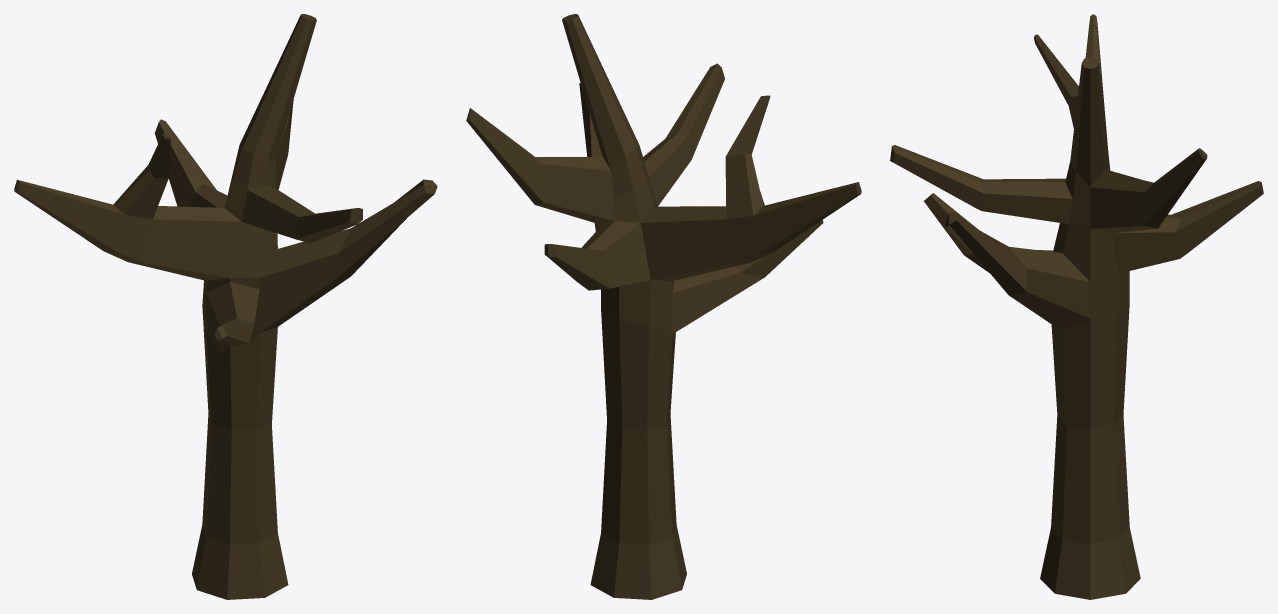
Rendered from tree_bald.obj.
The picture shows the model from 3 angles, left to right: view 1: azimuth 30°, elevation 25°; view 2: azimuth 150°, elevation 25°; view 3: azimuth 270°, elevation 25°; orthographic projection.
Parts seen in each view (by area): view 1: Arbre_Hiver; view 2: Arbre_Hiver; view 3: Arbre_Hiver.
Part boxes in pixels (bbox=[...]): Arbre_Hiver: bbox=[14, 14, 437, 599]; Arbre_Hiver: bbox=[466, 14, 861, 599]; Arbre_Hiver: bbox=[890, 14, 1263, 599].
Size of the model in its own units: 2.37 by 3.53 by 2.16.
1 material, 1 textured.
